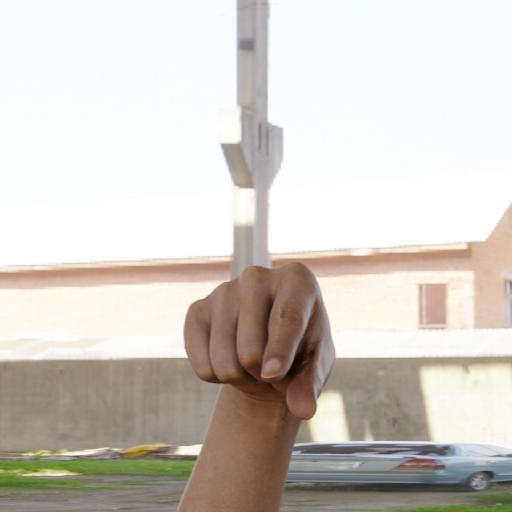Q: (175, 256, 372, 432)
